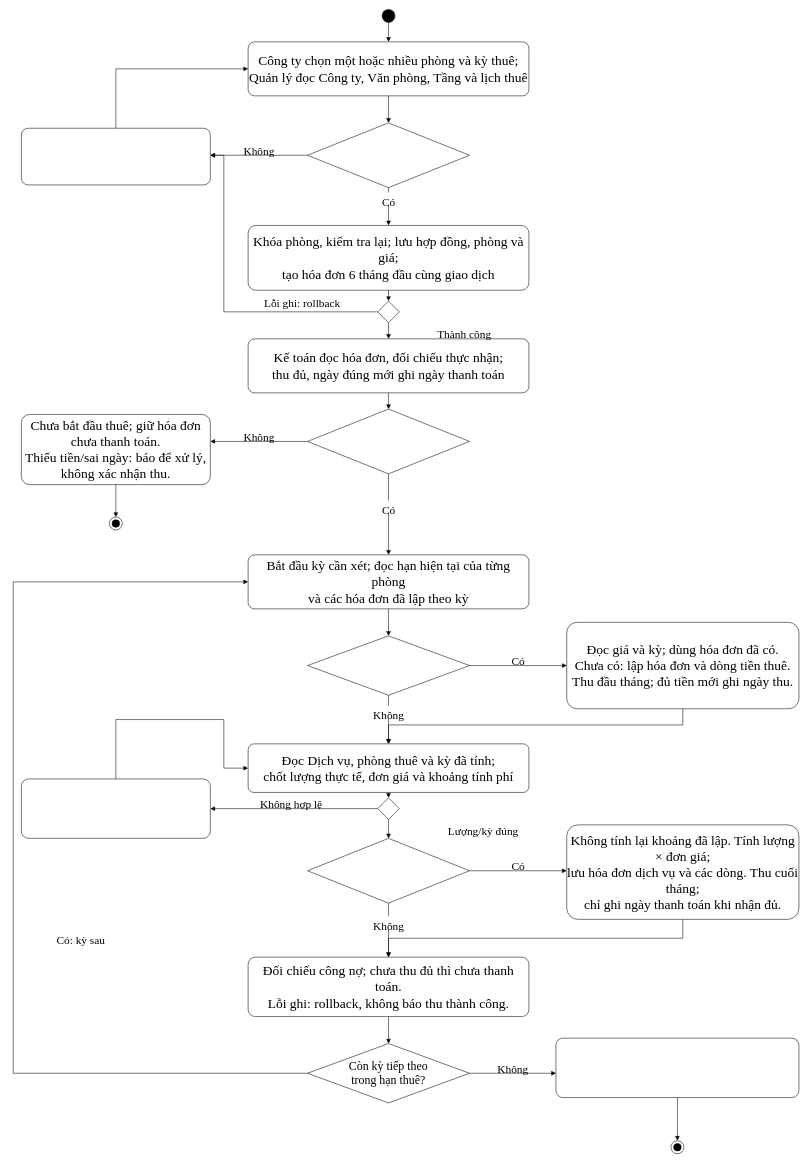
Some shapes in this 808 by 1163 pixel diagram are drawn without their labels. Here are the shapes that lost their labels. From the top down, the box of each, then its label:
(21, 128, 210, 185): Báo phòng Cần sửa, trùng lịch hoặc kỳ sai; điều chỉnh và chọn lại
(307, 122, 470, 188): Kỳ ≥ 6 tháng, phòng/lịch hợp lệ?
(307, 409, 470, 474): Đã thu đủ 6 tháng đầu?
(307, 635, 470, 695): Từ tháng 7?
(21, 778, 210, 838): Lượng sai/kỳ trùng: đối chiếu lại trước khi lập hóa đơn.
(307, 838, 470, 903): Có dịch vụ?
(555, 1038, 799, 1098): Hết hạn thuê; giữ chứng từ để theo dõi và thu các hóa đơn còn nợ.
